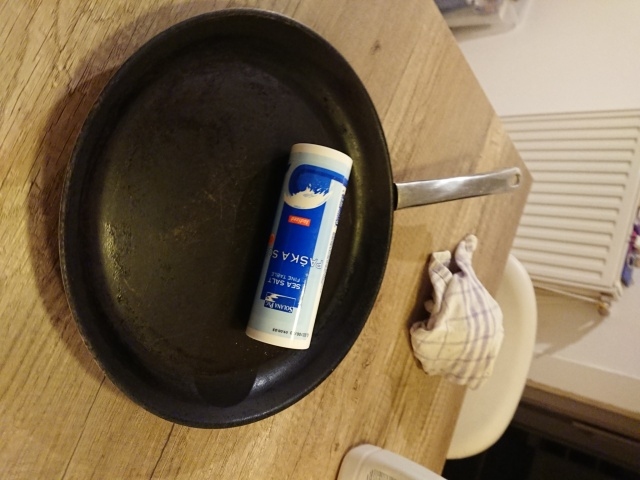Solana Pag Fine Sea Salt 250g: (241, 140, 357, 352)
